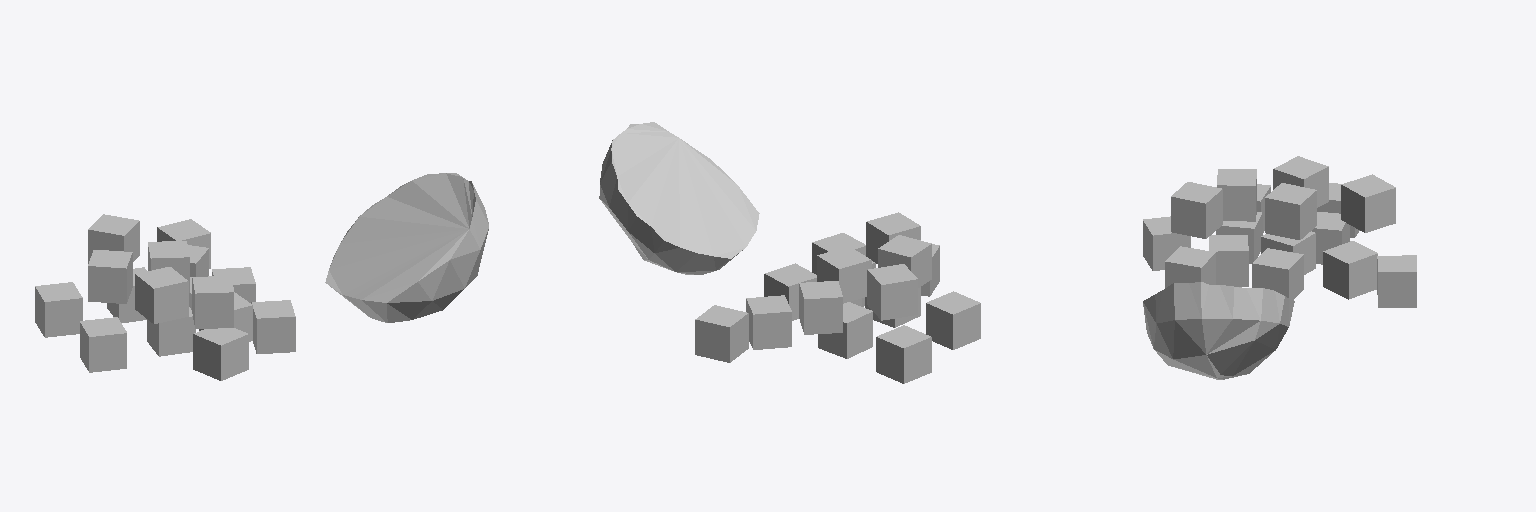
File: potato_chop_2.obj
3 views of the same model, side by side, from view 1: azimuth 30°, elevation 25°; view 2: azimuth 150°, elevation 25°; view 3: azimuth 270°, elevation 25° (orthographic).
Visible parts, largest first — view 1: PotatoeWhole2 Potatoe_chop_2 Potatoe1, Potatoe_chop_2 Potatoe1 group5 pCube41, Potatoe_chop_2 Potatoe1 group5 pCube28, Potatoe_chop_2 Potatoe1 group5 pCube40, Potatoe_chop_2 Potatoe1 group5 pCube37, Potatoe_chop_2 Potatoe1 group5 pCube38, Potatoe_chop_2 Potatoe1 group5 pCube29, Potatoe_chop_2 Potatoe1 group5 pCube42, Potatoe_chop_2 Potatoe1 group5 pCube36, Potatoe_chop_2 Potatoe1 group5 pCube31, Potatoe_chop_2 Potatoe1 group5 pCube39, Potatoe_chop_2 Potatoe1 pCube46 group5 (+4 smaller); view 2: PotatoeWhole2 Potatoe_chop_2 Potatoe1, Potatoe_chop_2 Potatoe1 group5 pCube37, Potatoe_chop_2 Potatoe1 group5 pCube40, Potatoe_chop_2 Potatoe1 pCube46 group5, Potatoe_chop_2 Potatoe1 group5 pCube38, Potatoe_chop_2 Potatoe1 group5 pCube36, Potatoe_chop_2 Potatoe1 group5 pCube35, Potatoe_chop_2 Potatoe1 group5 pCube39, Potatoe_chop_2 Potatoe1 group5 pCube34, Potatoe_chop_2 Potatoe1 group5 pCube41, Potatoe_chop_2 Potatoe1 group5 pCube42, Potatoe_chop_2 Potatoe1 group5 pCube32 (+1 smaller); view 3: PotatoeWhole2 Potatoe_chop_2 Potatoe1, Potatoe_chop_2 Potatoe1 group5 pCube36, Potatoe_chop_2 Potatoe1 group5 pCube35, Potatoe_chop_2 Potatoe1 group5 pCube39, Potatoe_chop_2 Potatoe1 group5 pCube42, Potatoe_chop_2 Potatoe1 pCube46 group5, Potatoe_chop_2 Potatoe1 group5 pCube32, Potatoe_chop_2 Potatoe1 group5 pCube41, Potatoe_chop_2 Potatoe1 group5 pCube30, Potatoe_chop_2 Potatoe1 group5 pCube29, Potatoe_chop_2 Potatoe1 group5 pCube28, Potatoe_chop_2 Potatoe1 group5 pCube38 (+4 smaller).
Part boxes in pixels (left/top/right/bottom): PotatoeWhole2 Potatoe_chop_2 Potatoe1: left=325, top=173, right=488, bottom=322; Potatoe_chop_2 Potatoe1 group5 pCube41: left=135, top=267, right=188, bottom=323; Potatoe_chop_2 Potatoe1 group5 pCube28: left=193, top=328, right=248, bottom=380; Potatoe_chop_2 Potatoe1 group5 pCube40: left=80, top=317, right=126, bottom=372; Potatoe_chop_2 Potatoe1 group5 pCube37: left=35, top=282, right=82, bottom=337; Potatoe_chop_2 Potatoe1 group5 pCube38: left=88, top=250, right=132, bottom=303; Potatoe_chop_2 Potatoe1 group5 pCube29: left=251, top=300, right=295, bottom=353; Potatoe_chop_2 Potatoe1 group5 pCube42: left=192, top=276, right=233, bottom=328; Potatoe_chop_2 Potatoe1 group5 pCube36: left=88, top=214, right=139, bottom=263; Potatoe_chop_2 Potatoe1 group5 pCube31: left=147, top=307, right=195, bottom=356; Potatoe_chop_2 Potatoe1 group5 pCube39: left=148, top=241, right=189, bottom=292; Potatoe_chop_2 Potatoe1 pCube46 group5: left=157, top=219, right=210, bottom=268; PotatoeWhole2 Potatoe_chop_2 Potatoe1: left=599, top=122, right=759, bottom=274; Potatoe_chop_2 Potatoe1 group5 pCube37: left=876, top=325, right=931, bottom=383; Potatoe_chop_2 Potatoe1 group5 pCube40: left=926, top=291, right=980, bottom=349; Potatoe_chop_2 Potatoe1 pCube46 group5: left=695, top=305, right=748, bottom=362; Potatoe_chop_2 Potatoe1 group5 pCube38: left=867, top=264, right=917, bottom=320; Potatoe_chop_2 Potatoe1 group5 pCube36: left=799, top=281, right=842, bottom=334; Potatoe_chop_2 Potatoe1 group5 pCube35: left=746, top=295, right=791, bottom=349; Potatoe_chop_2 Potatoe1 group5 pCube39: left=817, top=246, right=871, bottom=303; Potatoe_chop_2 Potatoe1 group5 pCube34: left=818, top=302, right=872, bottom=358; Potatoe_chop_2 Potatoe1 group5 pCube41: left=878, top=235, right=931, bottom=287; Potatoe_chop_2 Potatoe1 group5 pCube42: left=866, top=212, right=920, bottom=263; Potatoe_chop_2 Potatoe1 group5 pCube32: left=764, top=263, right=816, bottom=320; PotatoeWhole2 Potatoe_chop_2 Potatoe1: left=1143, top=282, right=1294, bottom=379; Potatoe_chop_2 Potatoe1 group5 pCube36: left=1341, top=174, right=1395, bottom=232; Potatoe_chop_2 Potatoe1 group5 pCube35: left=1323, top=241, right=1377, bottom=299; Potatoe_chop_2 Potatoe1 group5 pCube39: left=1265, top=183, right=1316, bottom=239; Potatoe_chop_2 Potatoe1 group5 pCube42: left=1171, top=182, right=1222, bottom=238; Potatoe_chop_2 Potatoe1 pCube46 group5: left=1377, top=255, right=1416, bottom=307; Potatoe_chop_2 Potatoe1 group5 pCube32: left=1252, top=248, right=1303, bottom=300; Potatoe_chop_2 Potatoe1 group5 pCube41: left=1217, top=169, right=1256, bottom=221; Potatoe_chop_2 Potatoe1 group5 pCube30: left=1209, top=235, right=1248, bottom=286; Potatoe_chop_2 Potatoe1 group5 pCube29: left=1165, top=246, right=1215, bottom=287; Potatoe_chop_2 Potatoe1 group5 pCube28: left=1143, top=216, right=1190, bottom=270; Potatoe_chop_2 Potatoe1 group5 pCube38: left=1273, top=156, right=1328, bottom=207.
Size of the model in its own units: 0.6208 by 0.189 by 0.389.